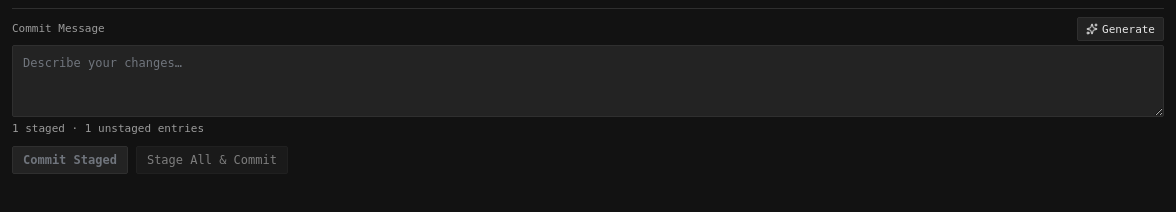
it: keeps generation failures visible even when the user edits the pending draft
The image size is (1176, 212).
Step 1. Click the button "Generate" → (1120, 29), box [1077, 17, 1164, 41]
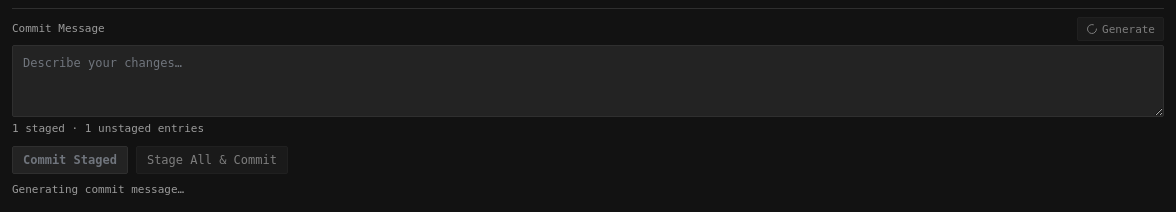
Step 2. Type "my edited draft" into the text box → (588, 81), box [12, 45, 1164, 117]
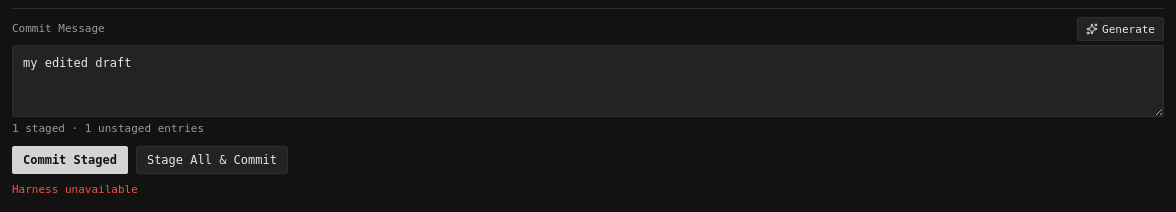
Now the text "Harness unavailable" is shown, box [12, 182, 138, 196]
